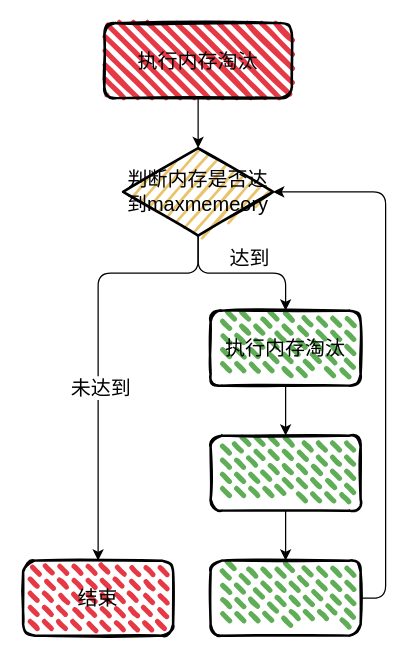
Some shapes in this 418 by 658 pixel diagram are drawn without their labels. Here are the shapes that lost their labels. From the top down, the centre of each, then its label:
At point (285, 472): "采样固定大小的过期键".
At point (285, 597): "回收最近未使用的那个".
